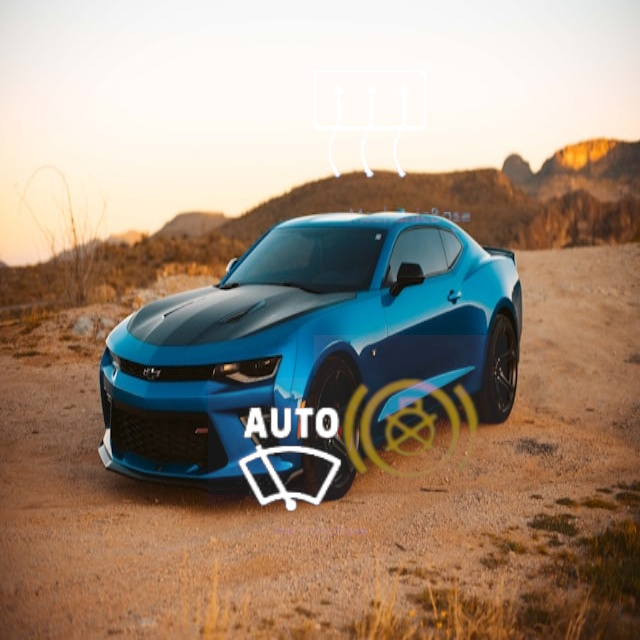symbol: (263, 17, 479, 233), (314, 335, 507, 528), (208, 378, 374, 544)
